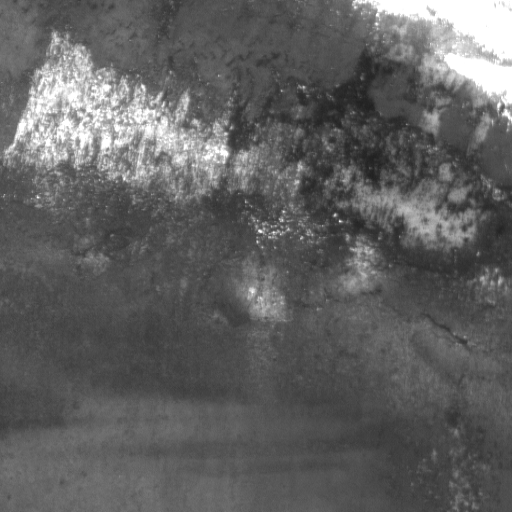aokeng: (276, 76, 502, 277)
